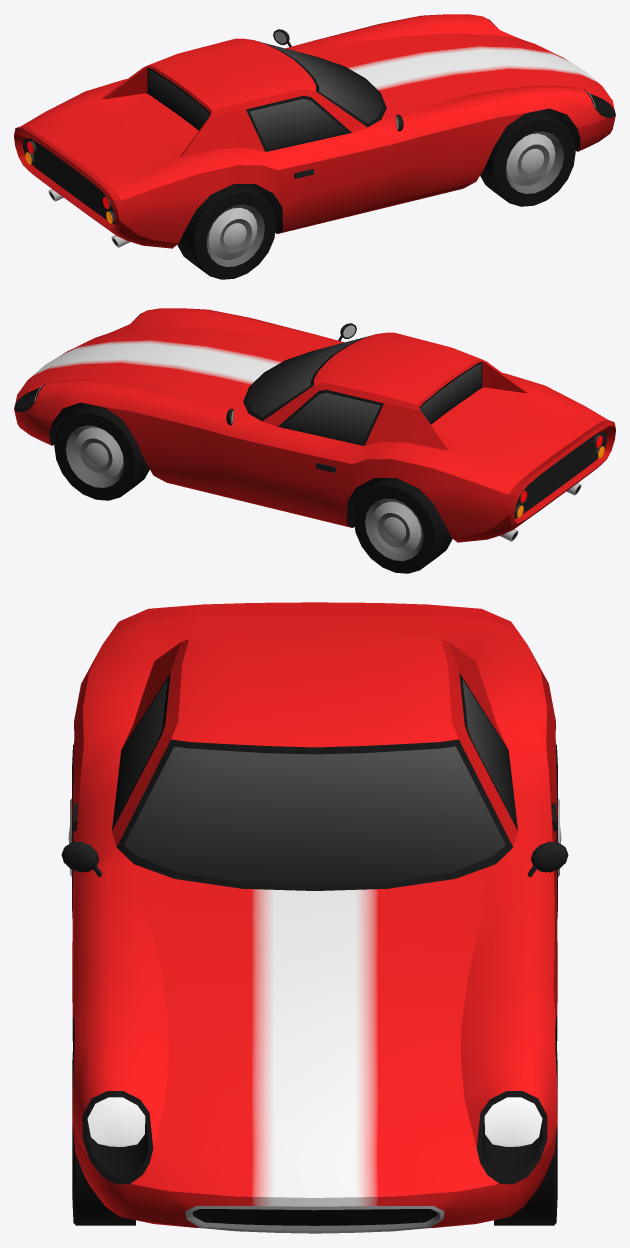
Rendered from Car_213.glb.
3 views of the same model, one above another, from view 1: azimuth 30°, elevation 25°; view 2: azimuth 150°, elevation 25°; view 3: azimuth 270°, elevation 25° (orthographic). The views are drawn at different scales.
Parts seen in each view (by area): view 1: Car_213, wheel_3_Car_213_Wheel_2R, wheel_1_Car_213_Wheel_1R; view 2: Car_213, wheel_2_Car_213_Wheel_2L, wheel_0_Car_213_Wheel_1L; view 3: Car_213, wheel_0_Car_213_Wheel_1L, wheel_1_Car_213_Wheel_1R.
Boxes of the visible parts, x1=… form: Car_213: x1=14, y1=14, x2=615, y2=248; wheel_3_Car_213_Wheel_2R: x1=177, y1=184, x2=276, y2=279; wheel_1_Car_213_Wheel_1R: x1=480, y1=109, x2=575, y2=206; Car_213: x1=14, y1=308, x2=615, y2=542; wheel_2_Car_213_Wheel_2L: x1=353, y1=478, x2=452, y2=573; wheel_0_Car_213_Wheel_1L: x1=54, y1=403, x2=149, y2=500; Car_213: x1=61, y1=602, x2=568, y2=1233; wheel_0_Car_213_Wheel_1L: x1=494, y1=1036, x2=557, y2=1225; wheel_1_Car_213_Wheel_1R: x1=72, y1=1036, x2=135, y2=1225.
Bounding box in the file's own units: 4.59 × 1.27 × 1.92.
2 materials, 2 textured.
